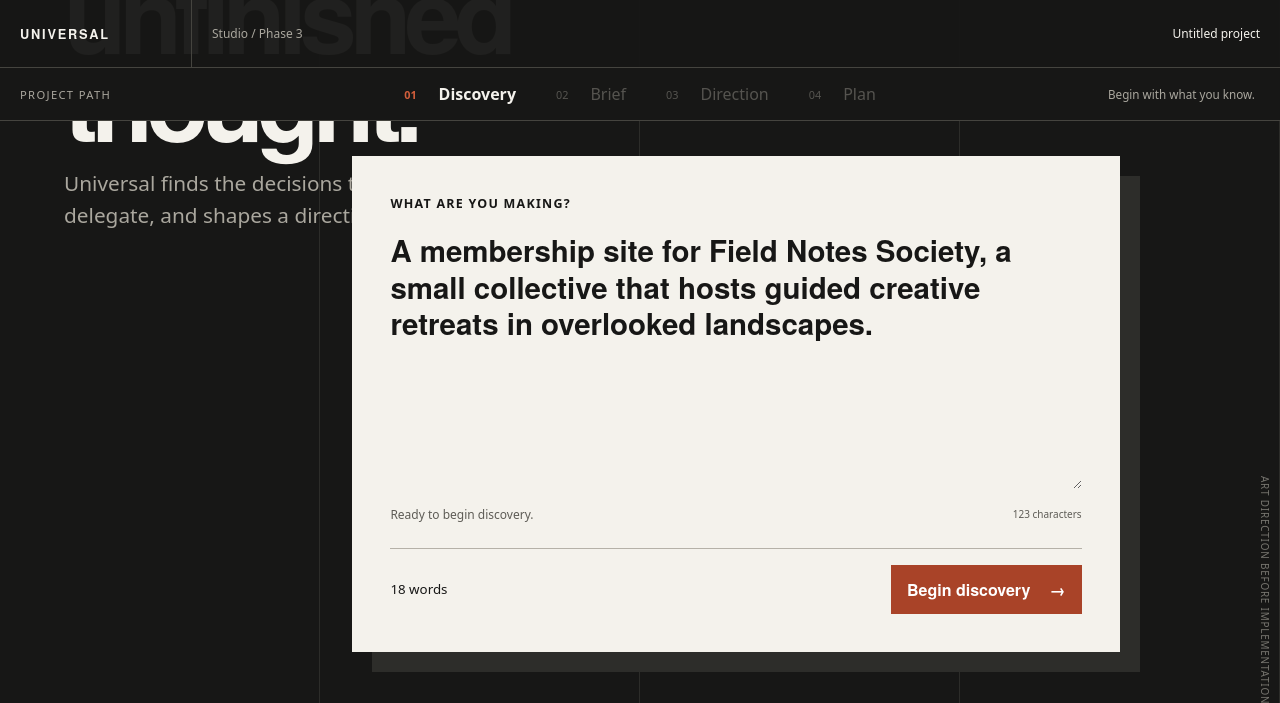
Test: stage 3: creative-brief review and explicit approval › unresolved decisions are surfaced before approval is offered
(page scrolled)
Replace the text in the text box labelled "What are you making?" with "A membership site for a small collective that runs guided creative retreats in overlooked coastal towns." at point(736, 361), box x1=390 y1=232 x2=1082 y2=489
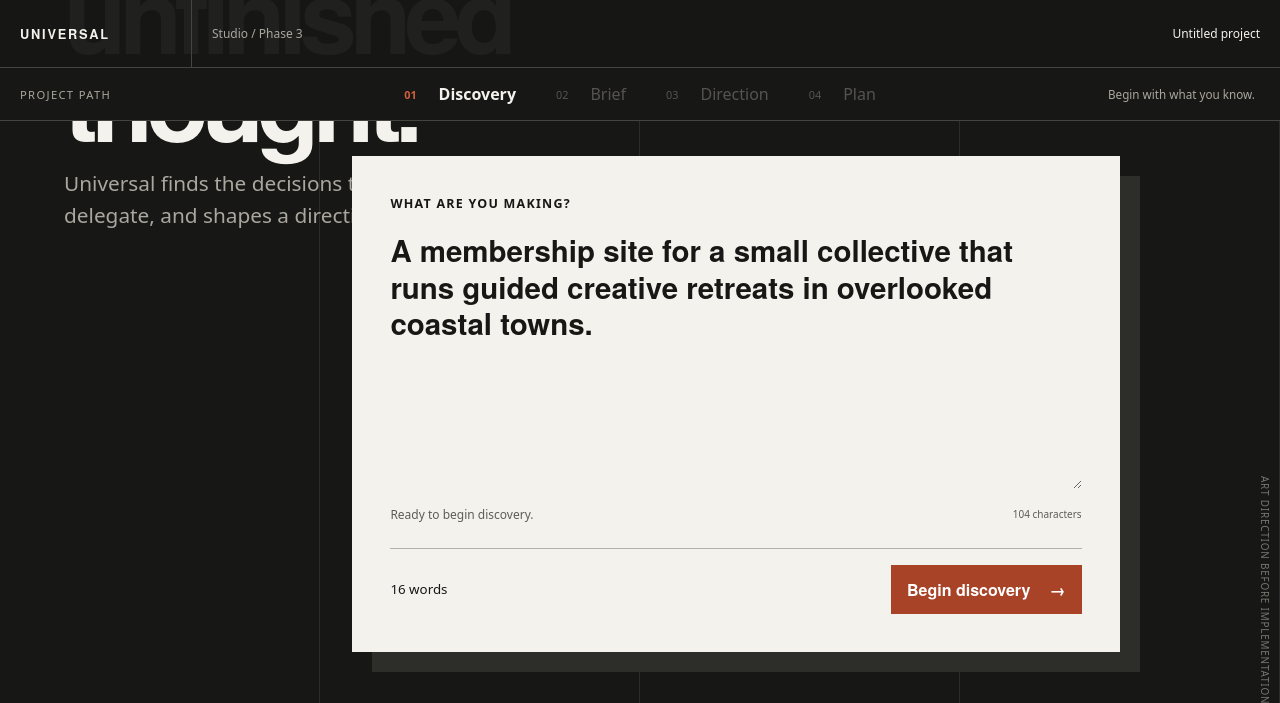
Click the button "Begin discovery →" at point(986, 589), box x1=891 y1=565 x2=1082 y2=614
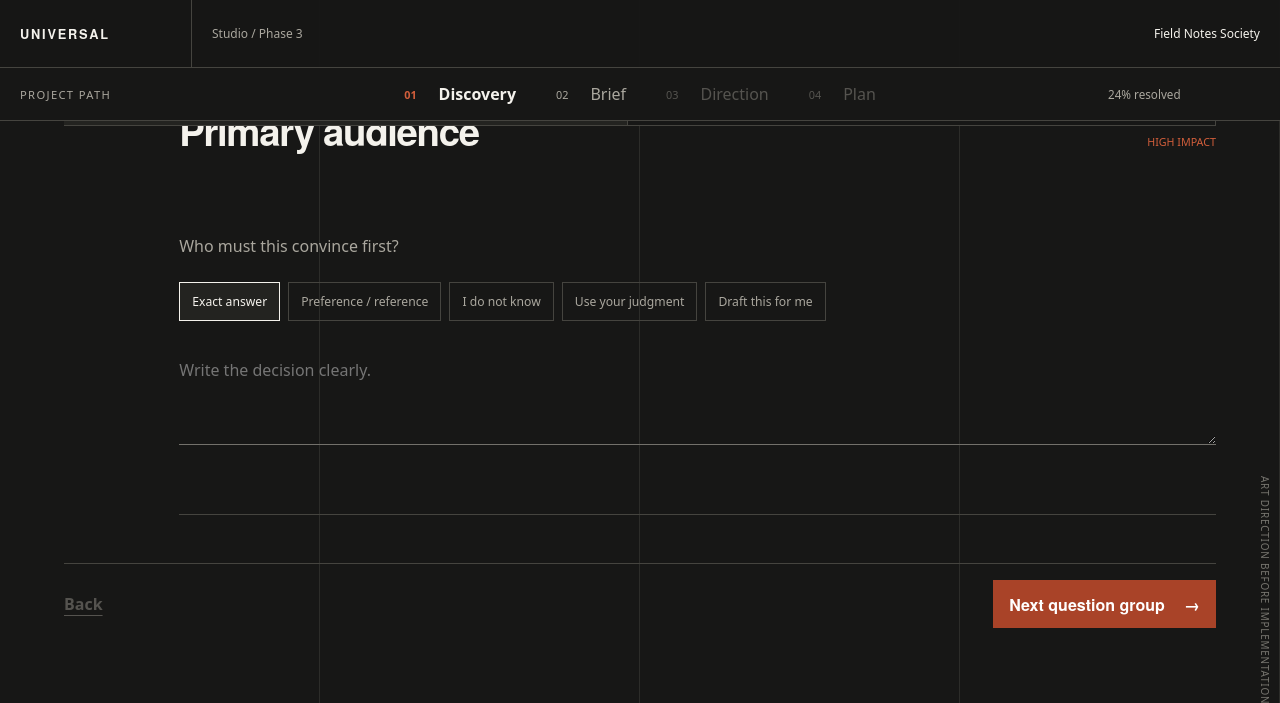
Click the button "Next question group →" at point(1105, 604), box x1=993 y1=580 x2=1216 y2=628
(page scrolled)
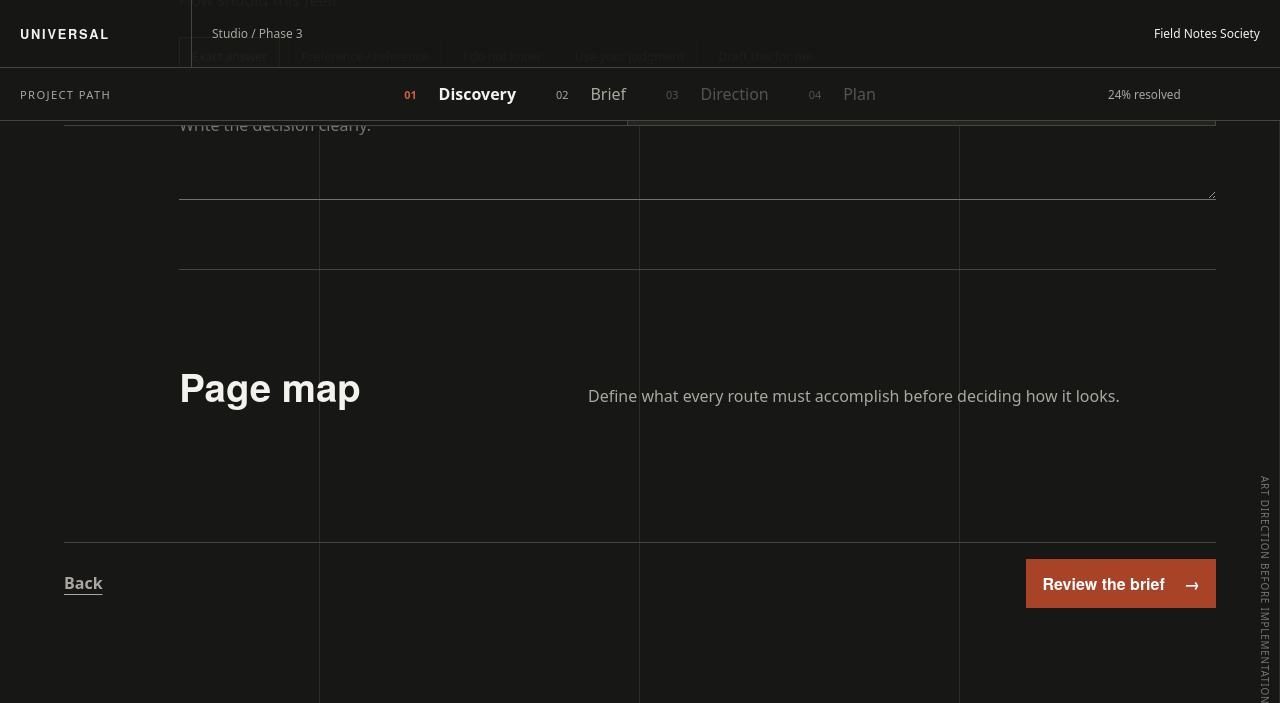
Click the button "Review the brief →" at point(1121, 583), box x1=1026 y1=559 x2=1216 y2=608
(page scrolled)
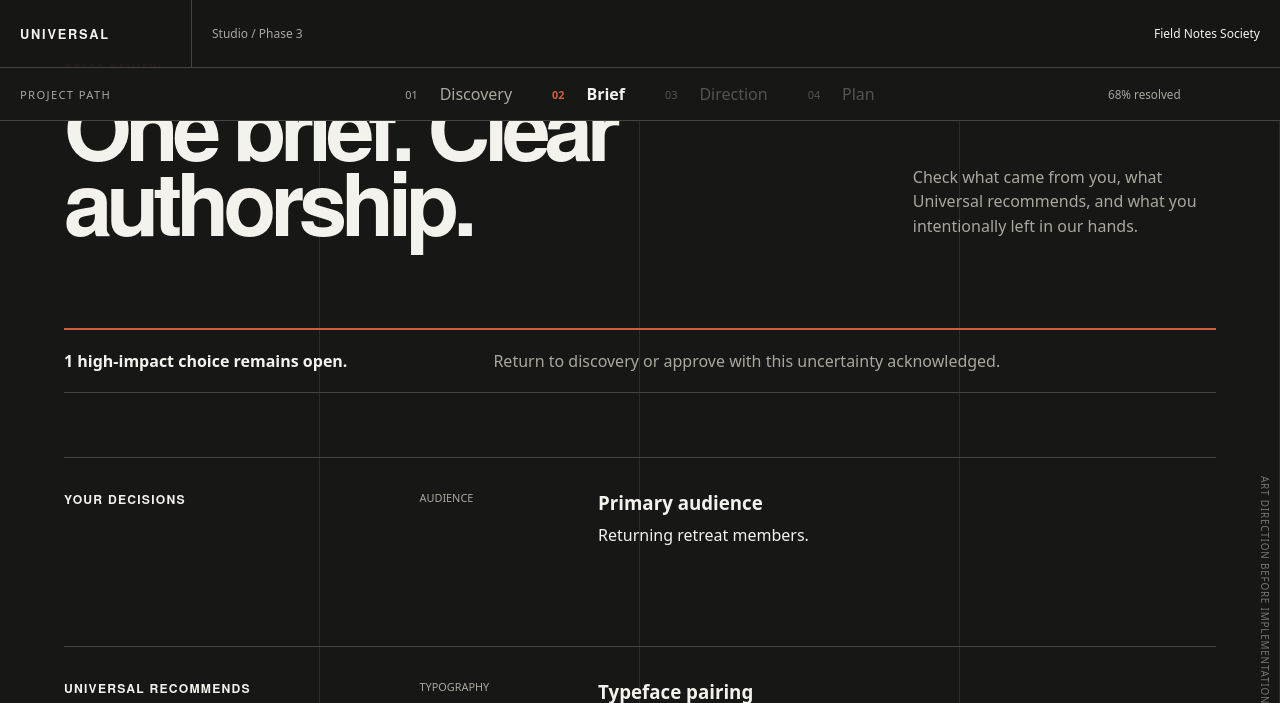
Check: the heading "One brief. Clear authorship." is shown, box x1=64 y1=89 x2=645 y2=239
Check: the element with class "alert" shows "1 high-impact choice remains open", box x1=64 y1=328 x2=1216 y2=394
